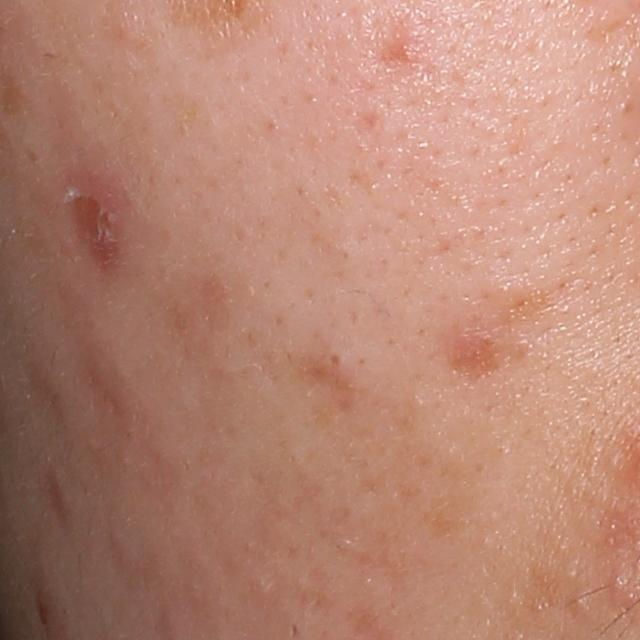comedo: (328, 348, 353, 372), (569, 592, 589, 611)
papule: (387, 35, 425, 66)
